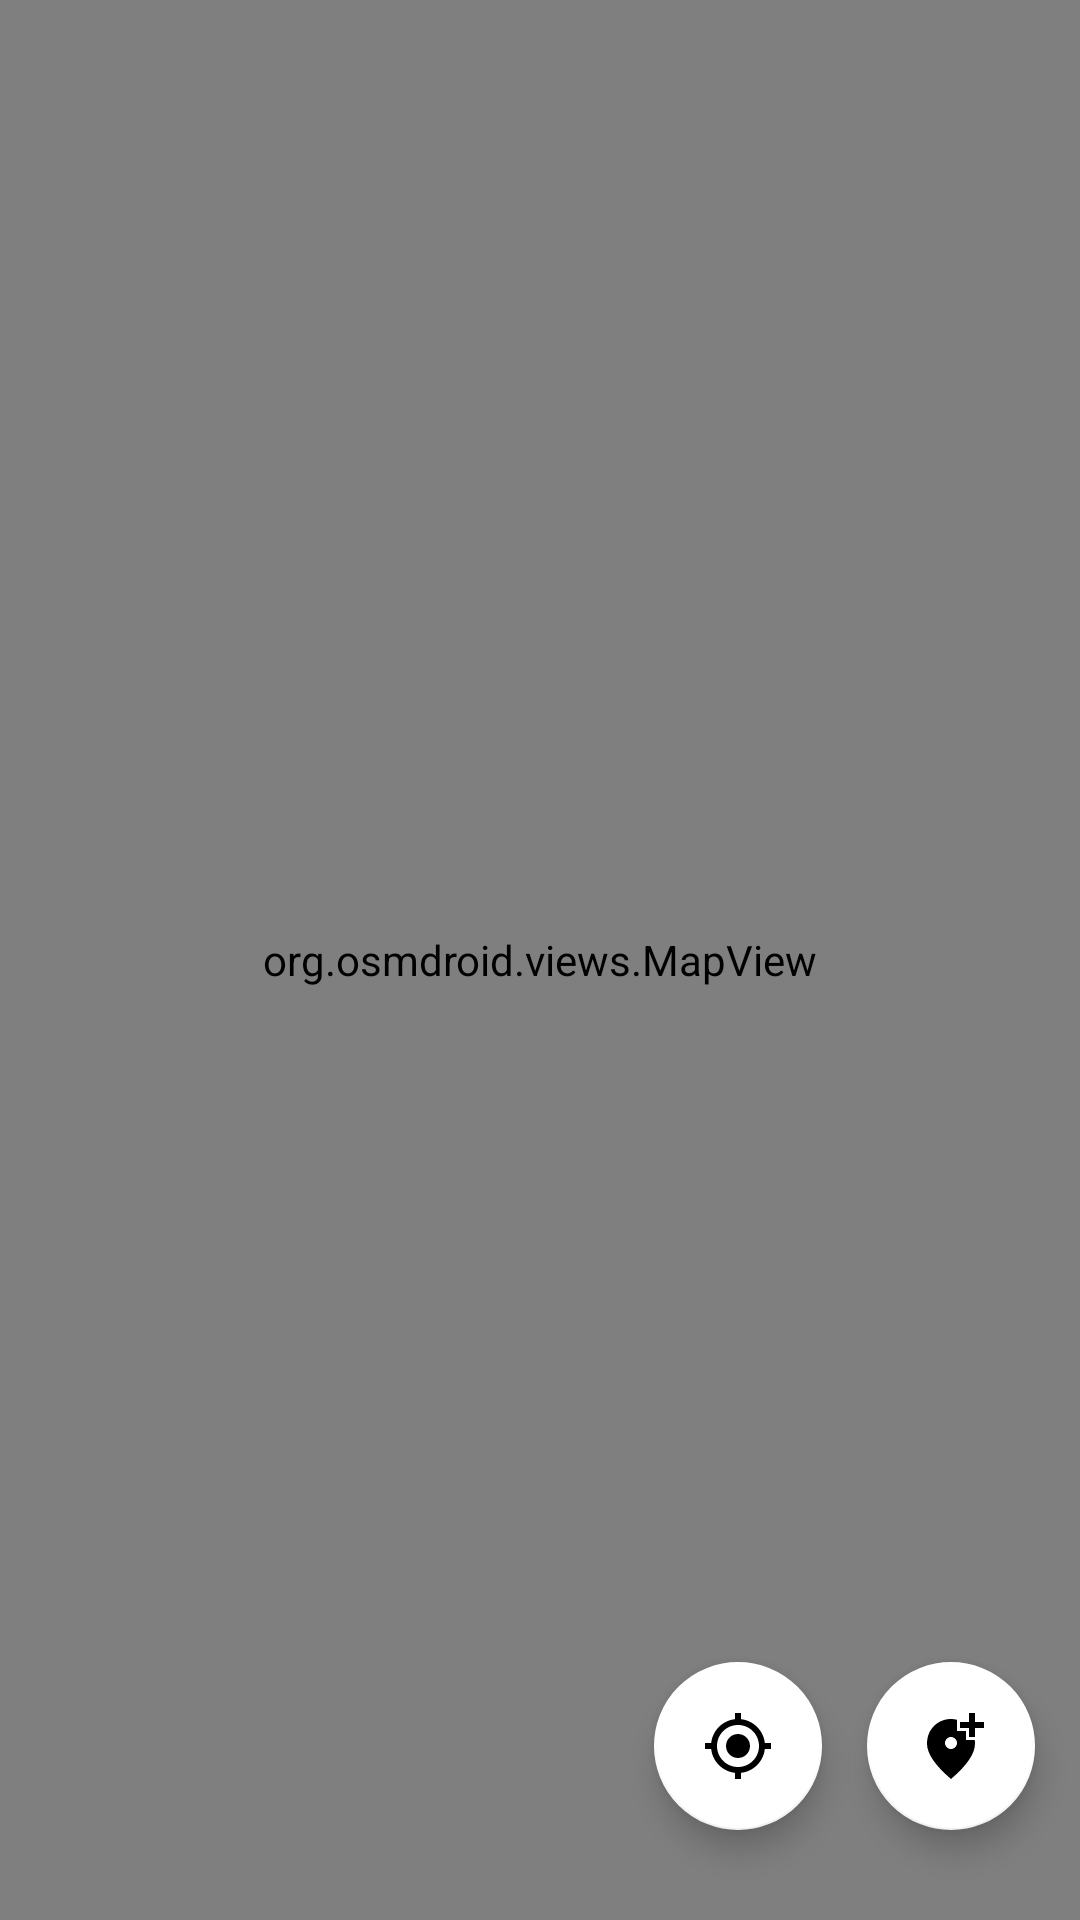

Screen size 1080w x 1920h. Icon name, then its center in pixels as [x,y]:
Center on me: [738,1746]
load POIs in this zone: [951,1746]
